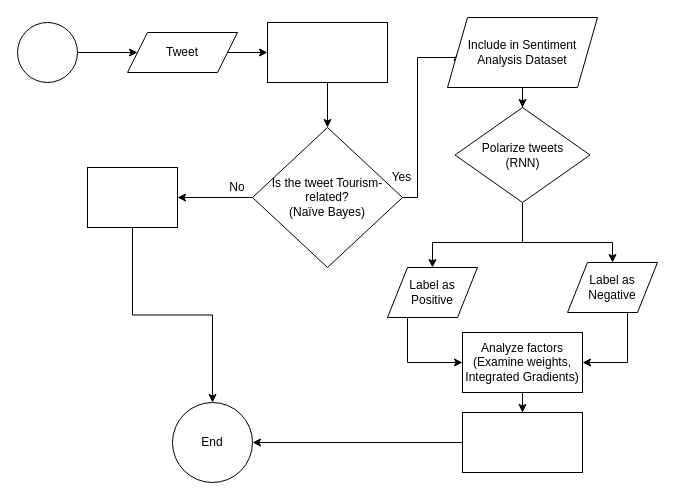
The diagram is 675 pixels wide and 500 high, and some of its shapes have lost their labels. Here are the shapes that lost their labels. From the top down, the centre of each, then its label:
At point (47, 52): "Start".
At point (327, 52): "Tokenization (Bag of Words)".
At point (132, 197): "Discard from dataset".
At point (522, 442): "Compare Sentiments Before vs. After (ANOVA)".
